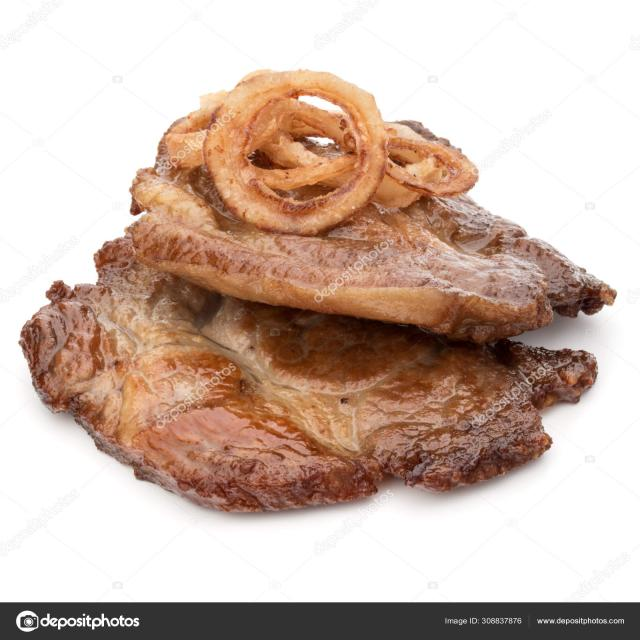carne de res: (15, 65, 625, 527)
